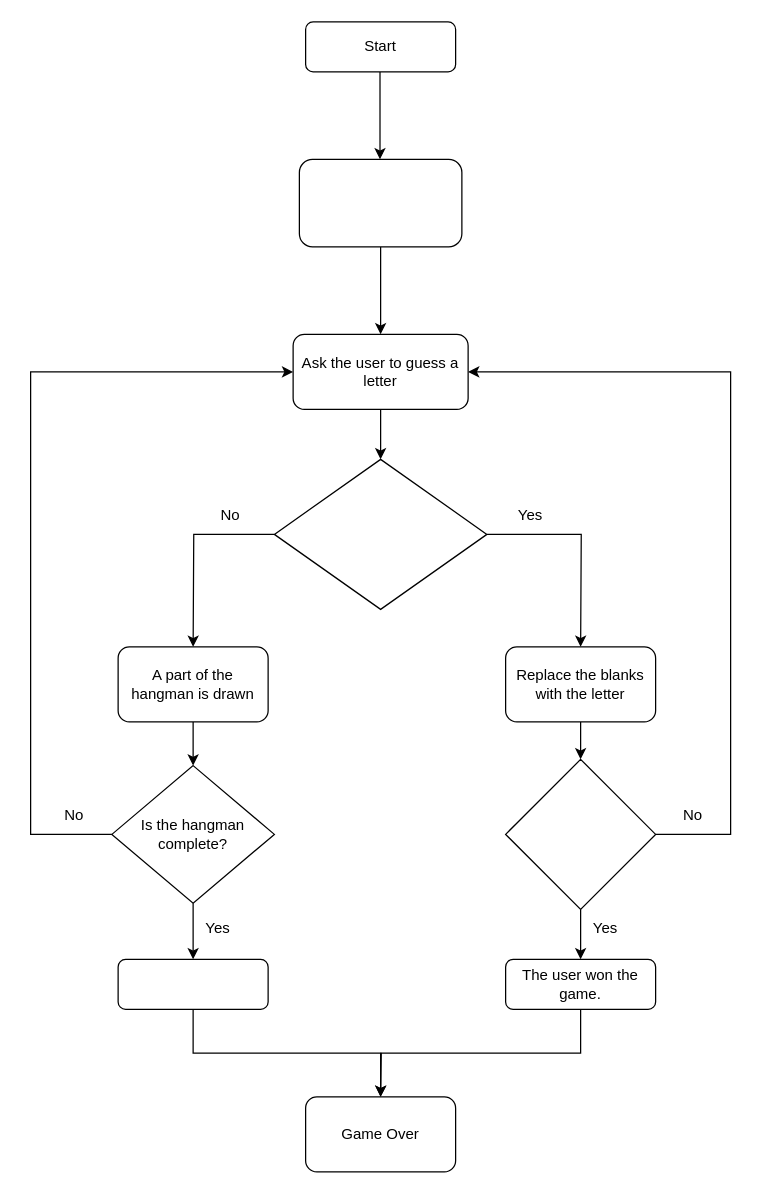
The diagram is 763 pixels wide and 1194 high, and some of its shapes have lost their labels. The shapes that lost their labels are listed below. From the top down, each one's centre as x and y in pixels, then its label:
(x=380, y=202): Generate a random word and generate as many blanks as the number of letters.
(x=380, y=533): Does the letter exist in the word?
(x=580, y=833): Are all the blanks filled?
(x=192, y=983): The user lost the game.
